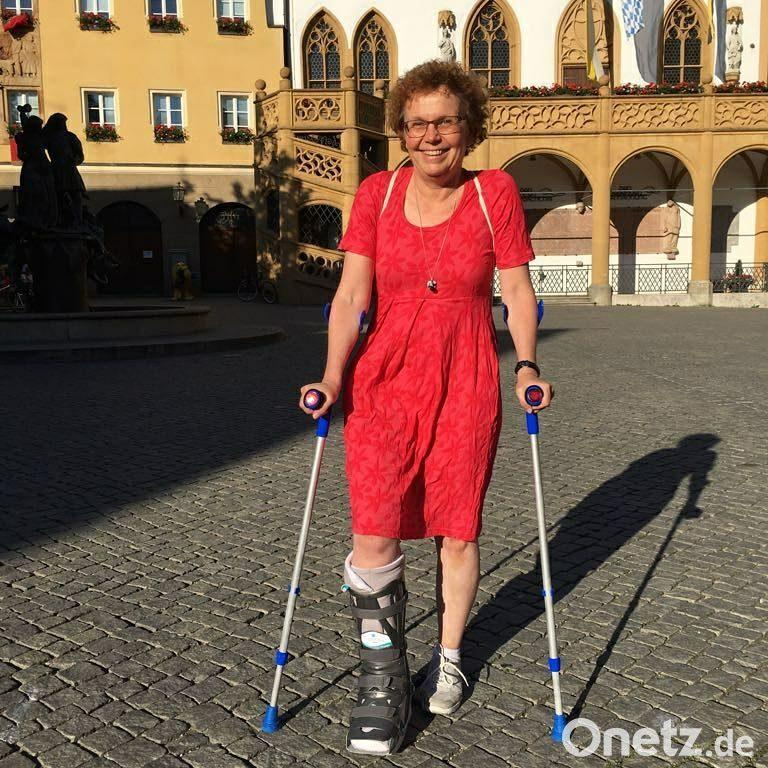crutches: (262, 59, 570, 756)
